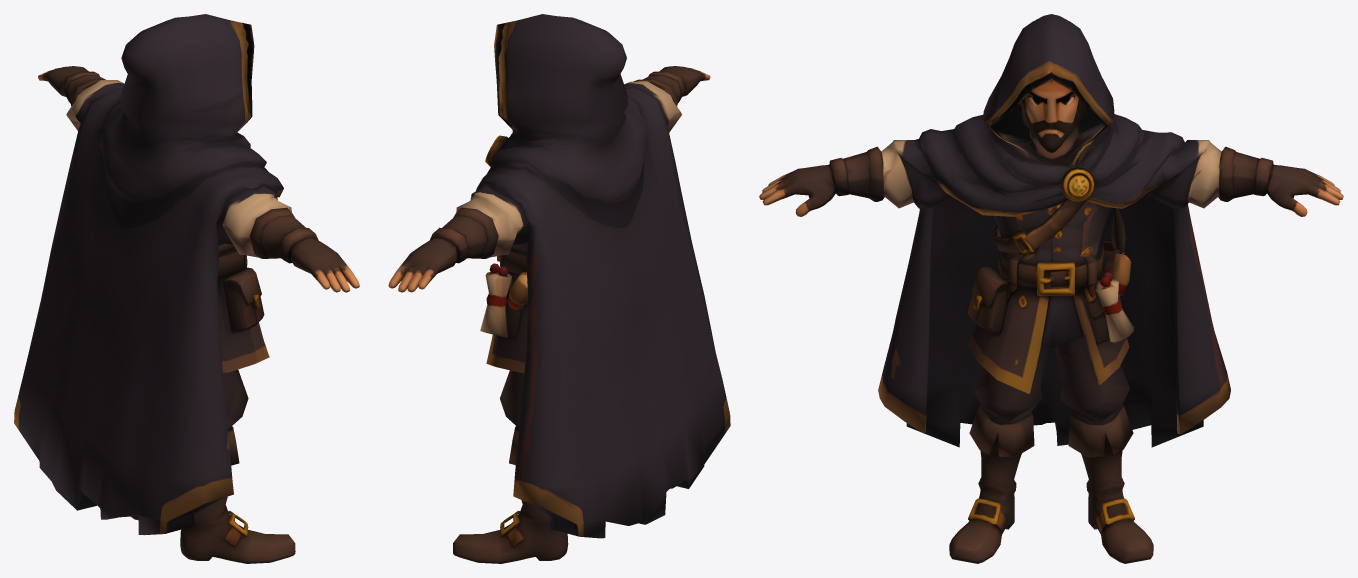
3 views of the same model, side by side, from view 1: azimuth 30°, elevation 25°; view 2: azimuth 150°, elevation 25°; view 3: azimuth 270°, elevation 25° (orthographic).
Parts seen in each view (by area): view 1: tripo_node_ccfe3c4b-1d3f-40f1-b211-b181c0ee9463; view 2: tripo_node_ccfe3c4b-1d3f-40f1-b211-b181c0ee9463; view 3: tripo_node_ccfe3c4b-1d3f-40f1-b211-b181c0ee9463.
Boxes of the visible parts, left/top/right/bottom form: tripo_node_ccfe3c4b-1d3f-40f1-b211-b181c0ee9463: left=14, top=14, right=359, bottom=563; tripo_node_ccfe3c4b-1d3f-40f1-b211-b181c0ee9463: left=388, top=14, right=730, bottom=563; tripo_node_ccfe3c4b-1d3f-40f1-b211-b181c0ee9463: left=759, top=14, right=1343, bottom=563.
Size of the model in its own units: 0.3335 by 0.9614 by 0.9995.
Materials: 1 (1 with a texture image).
